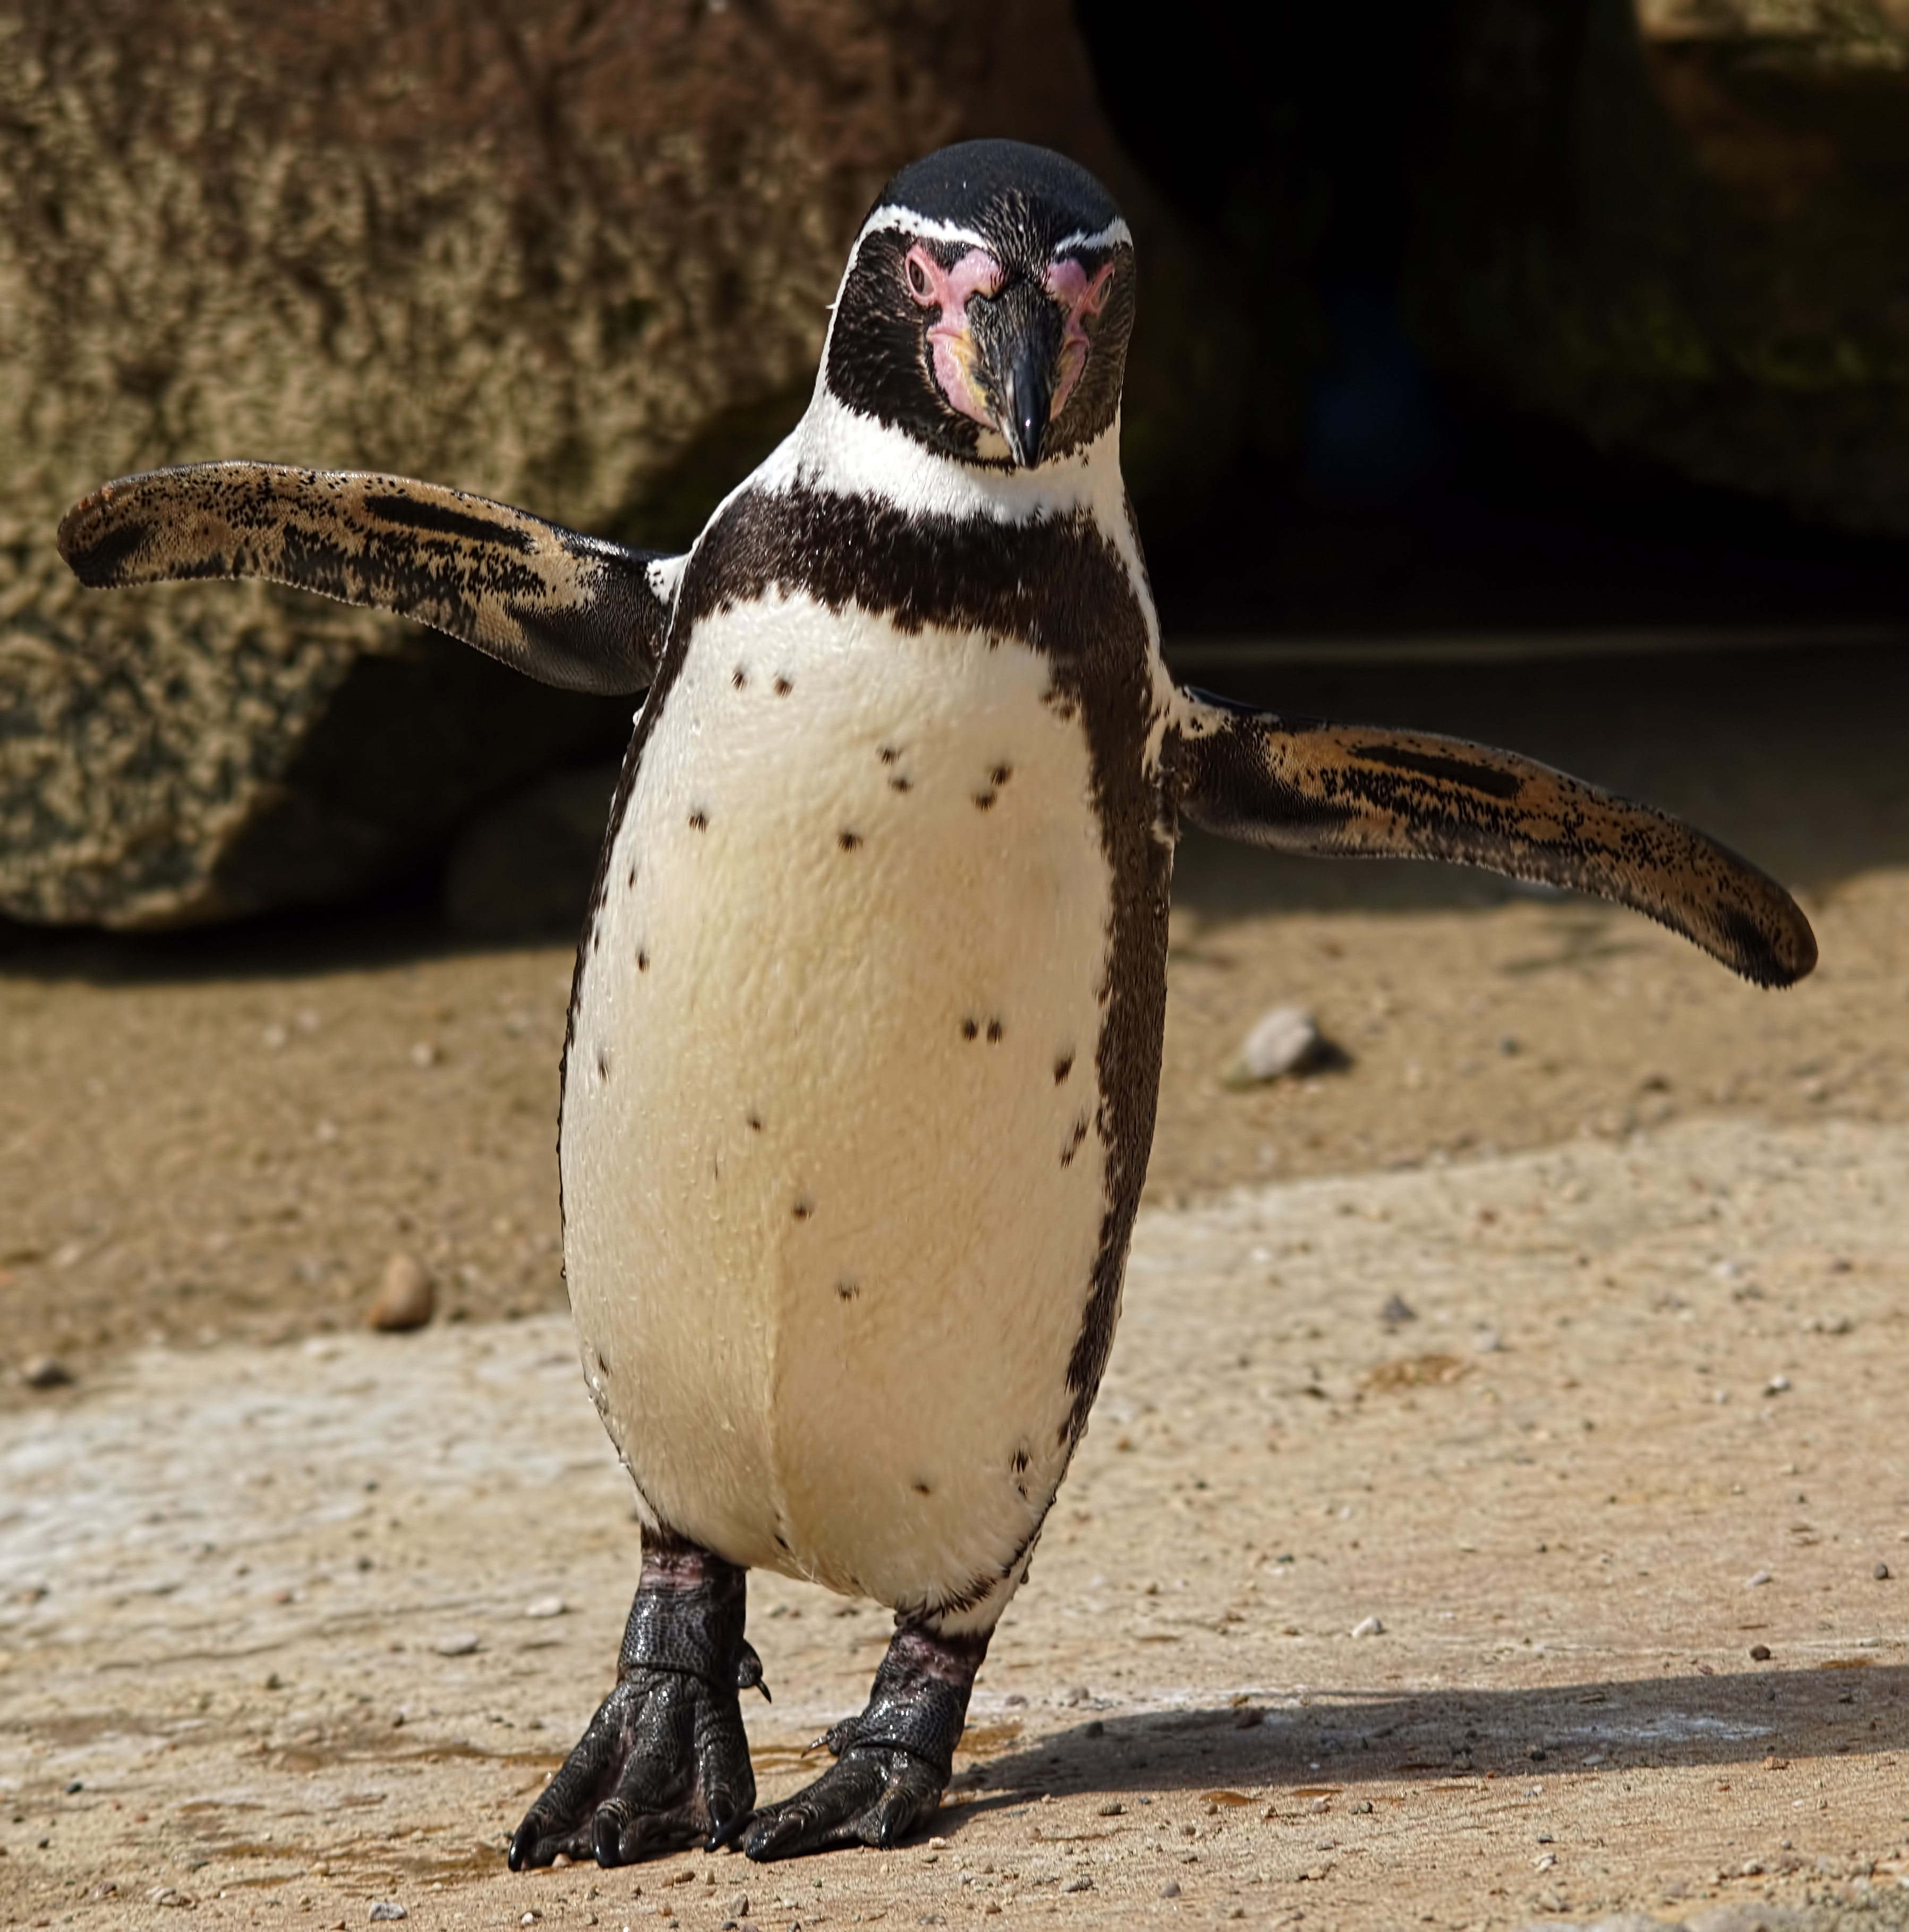penguin: (51, 136, 1829, 1838)
